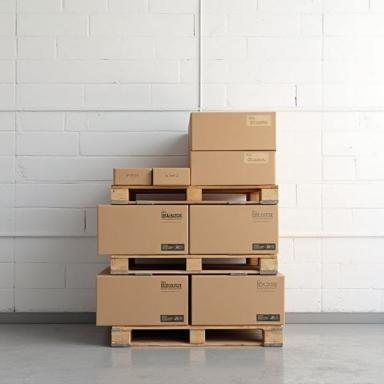pallet: (111, 325, 283, 347), (110, 254, 278, 276), (110, 185, 278, 204), (130, 329, 189, 345), (206, 329, 262, 342), (129, 258, 185, 271), (202, 194, 246, 203), (130, 194, 186, 200)
